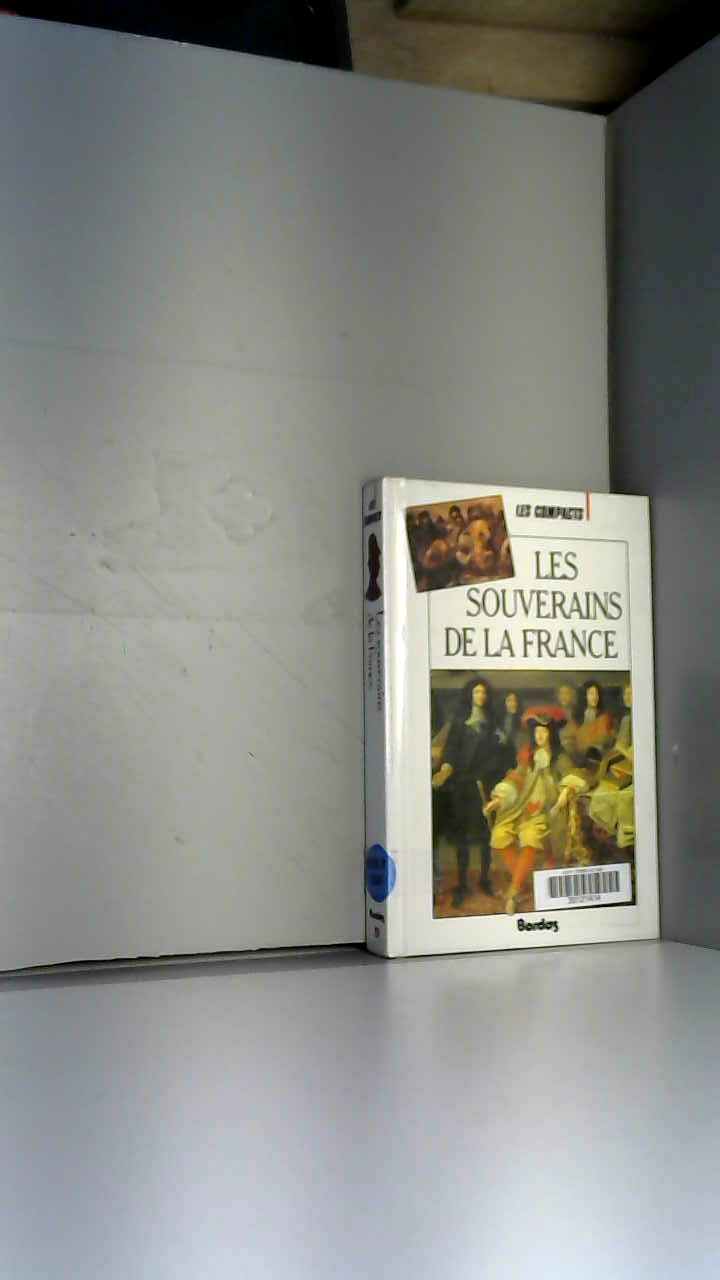book: (333, 431, 701, 988)
